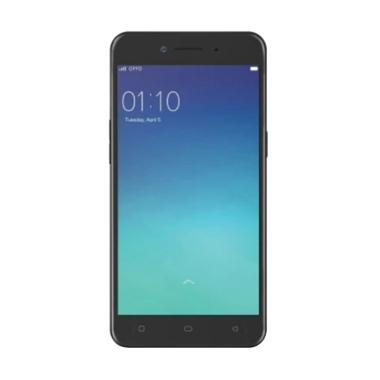Handphone: (105, 29, 274, 354)
